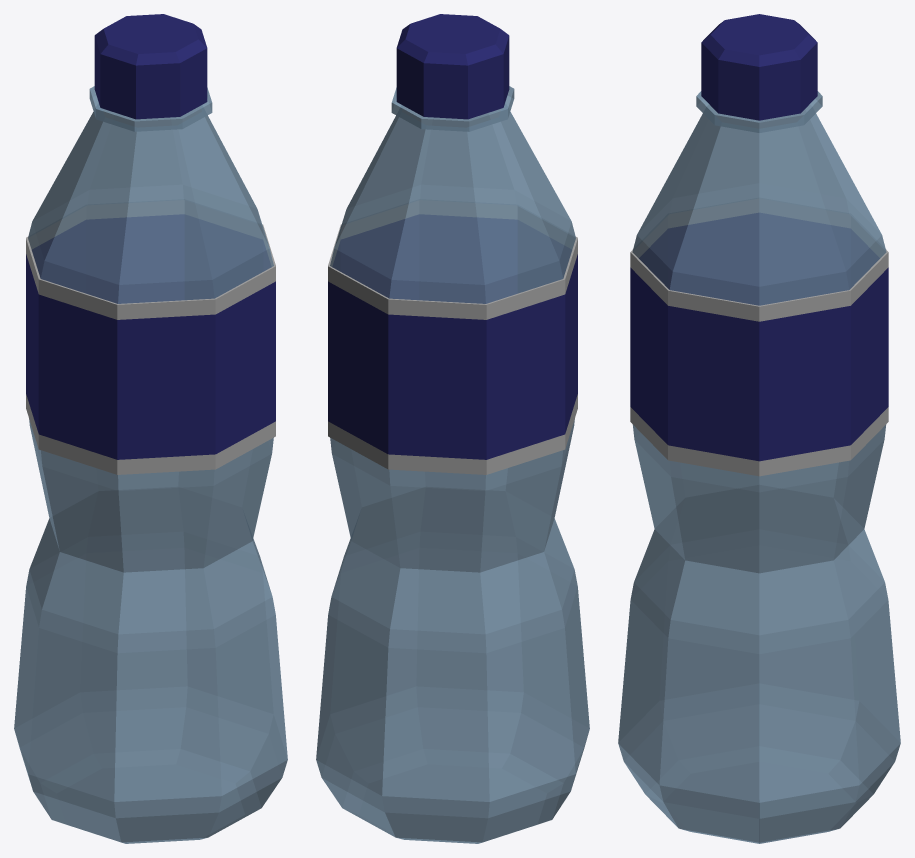
The model's file is bottle of water .fbx.
The picture shows the model from 3 angles, left to right: view 1: azimuth 30°, elevation 25°; view 2: azimuth 150°, elevation 25°; view 3: azimuth 270°, elevation 25°; orthographic projection.
Visible parts, largest first — view 1: Cylinder; view 2: Cylinder; view 3: Cylinder.
Part boxes in pixels (left/top/right/bottom): Cylinder: left=14, top=14, right=287, bottom=843; Cylinder: left=316, top=14, right=589, bottom=843; Cylinder: left=618, top=14, right=900, bottom=843.
Size of the model in its own units: 7.48 by 22.44 by 7.48.
